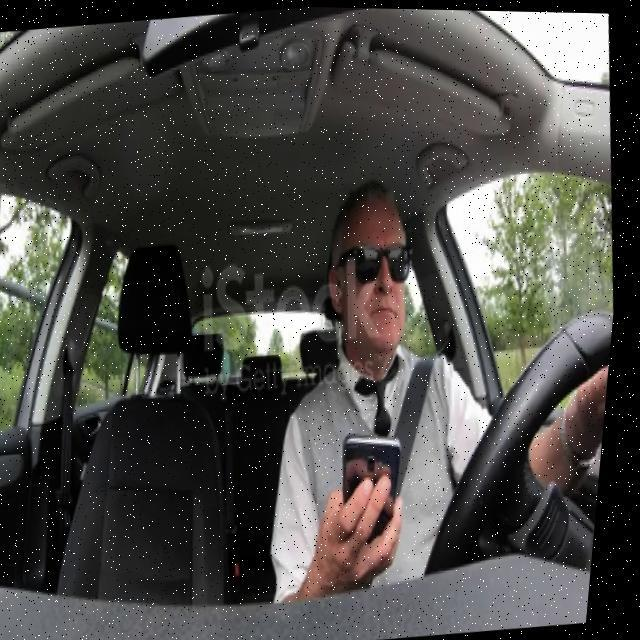PhoneCall: (338, 426, 422, 574)
